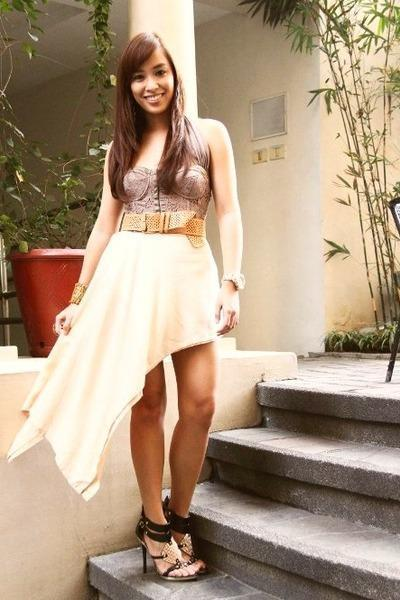dress: (0, 230, 224, 500)
shirt: (132, 143, 217, 219)
shoe: (136, 500, 203, 573)
